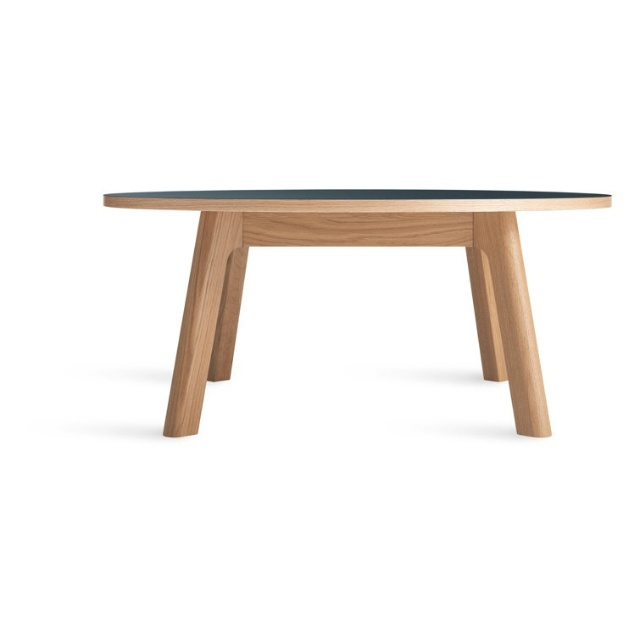obstacle: (104, 190, 610, 437)
